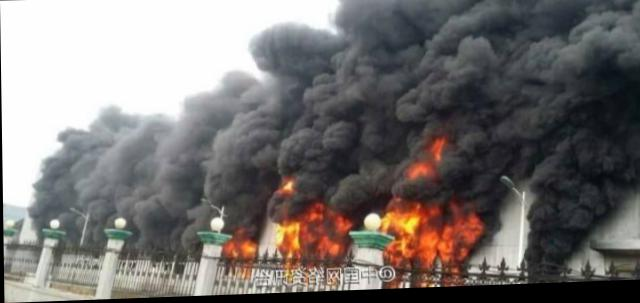fire: (385, 209, 441, 263), (304, 210, 350, 259), (441, 217, 479, 262), (277, 223, 301, 261), (229, 230, 257, 256), (411, 163, 433, 180), (431, 140, 445, 161), (280, 179, 295, 194)
